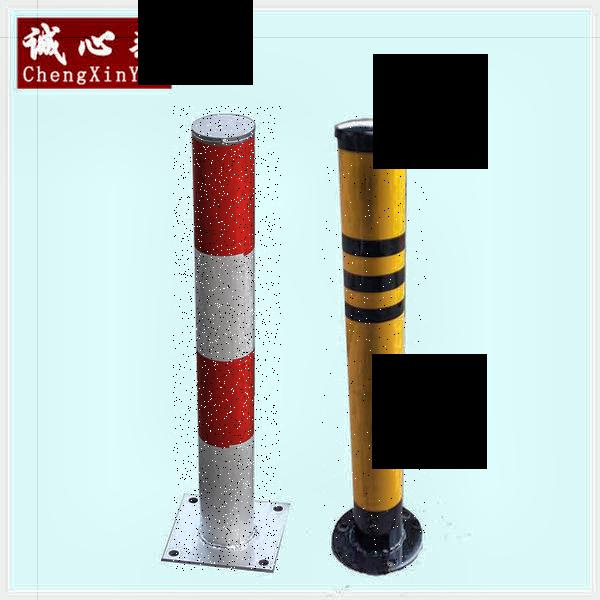bench: (173, 106, 282, 572), (322, 115, 428, 574)
